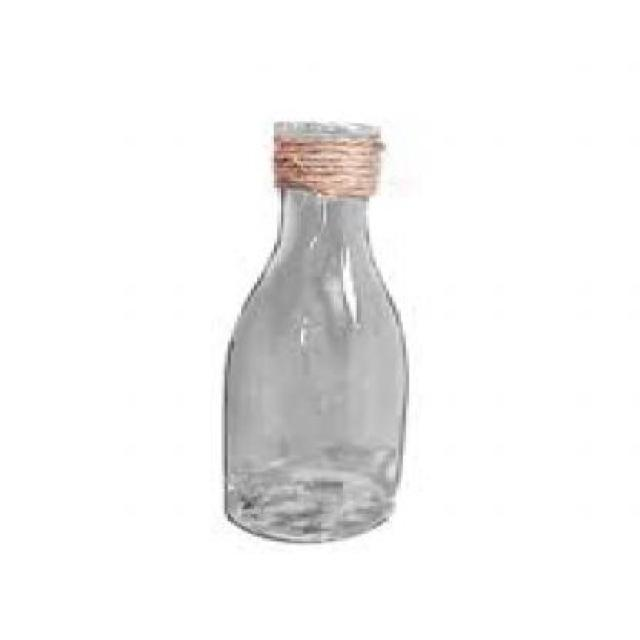kaca: (222, 183, 406, 539)
